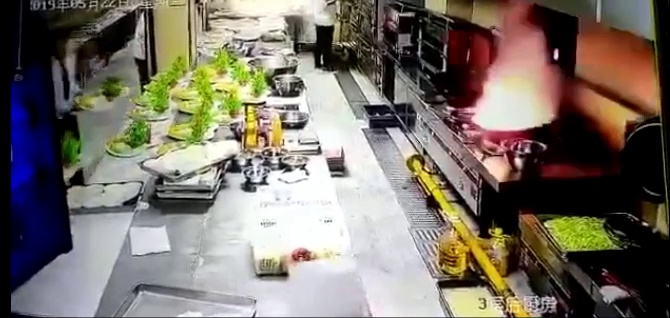fire: (473, 32, 555, 126)
